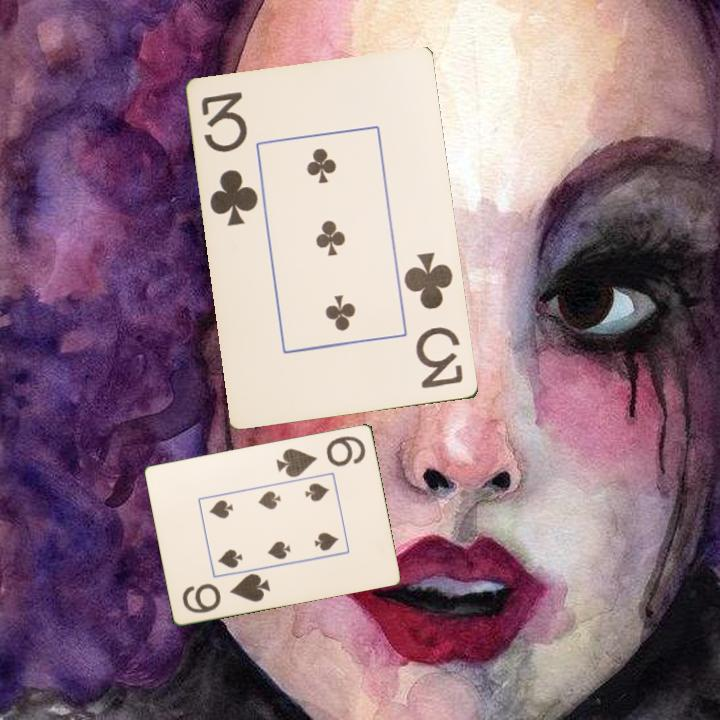3c: (401, 249, 467, 392), (198, 88, 262, 230)
6s: (273, 432, 369, 480), (179, 569, 273, 616)
